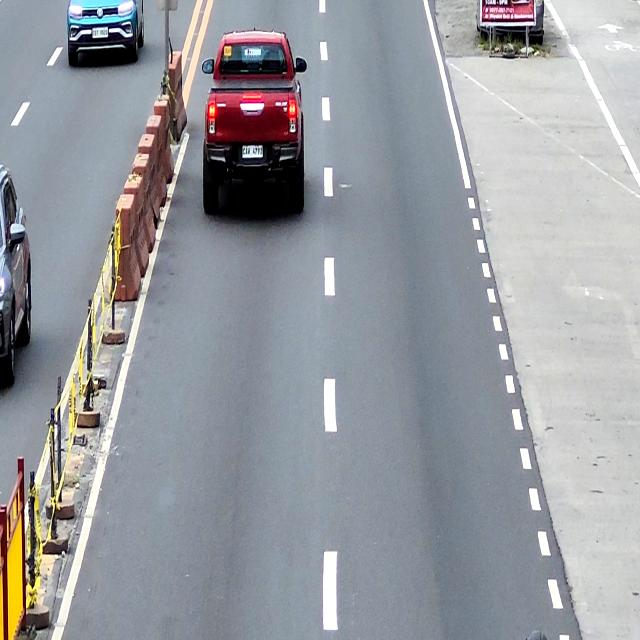Car: (201, 31, 308, 217), (0, 164, 31, 388), (66, 0, 146, 64)
License-Plate: (242, 146, 264, 158), (91, 28, 109, 38)
